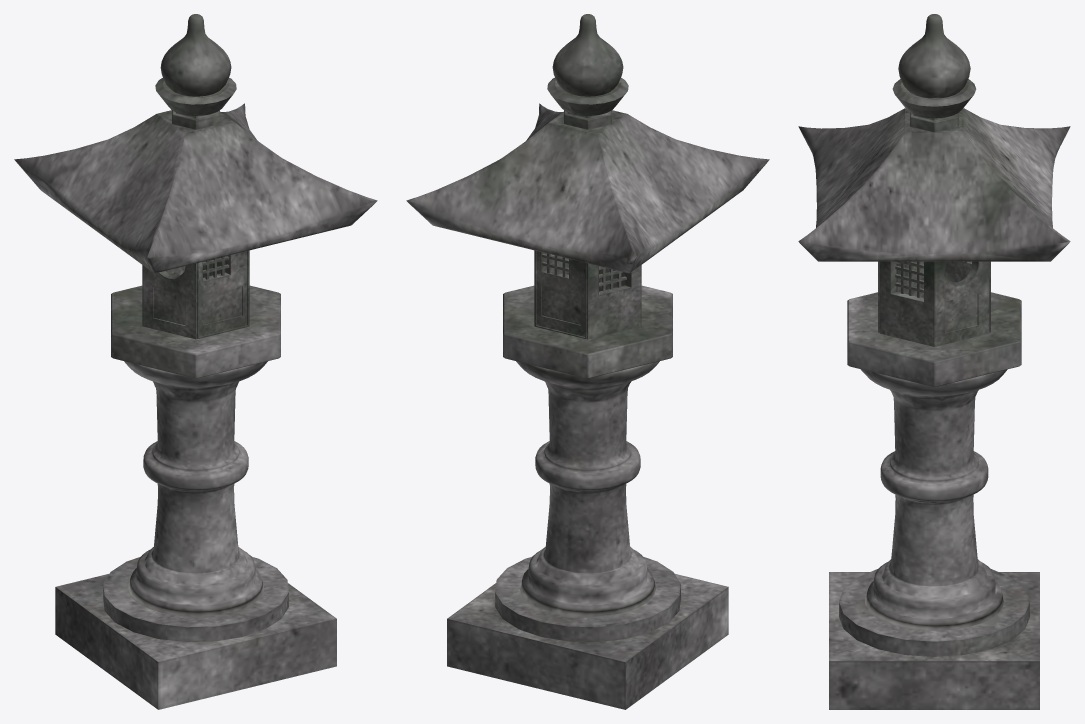
Rendered from den_mai.glb.
3 views of the same model, side by side, from view 1: azimuth 30°, elevation 25°; view 2: azimuth 150°, elevation 25°; view 3: azimuth 270°, elevation 25° (orthographic). The views are drawn at different scales.
Visible parts, largest first — view 1: stone_Lantren_4, stone_Lantren_7, stone_Lantren_9, stone_Lantren_6, stone_Lantren_5, stone_Lantren_8, stone_Lantren_1, stone_Lantren_2, stone_Lantren_3; view 2: stone_Lantren_4, stone_Lantren_7, stone_Lantren_9, stone_Lantren_6, stone_Lantren_5, stone_Lantren_8, stone_Lantren_1, stone_Lantren_2, stone_Lantren_3; view 3: stone_Lantren_4, stone_Lantren_7, stone_Lantren_9, stone_Lantren_6, stone_Lantren_5, stone_Lantren_8, stone_Lantren_1, stone_Lantren_2, stone_Lantren_3.
Part boxes in pixels (<box>): stone_Lantren_4: <box>14,103,377,273</box>; stone_Lantren_7: <box>124,361,267,616</box>; stone_Lantren_9: <box>55,547,336,709</box>; stone_Lantren_6: <box>111,285,280,378</box>; stone_Lantren_5: <box>142,250,249,339</box>; stone_Lantren_8: <box>103,556,288,641</box>; stone_Lantren_1: <box>160,14,231,96</box>; stone_Lantren_2: <box>155,77,236,115</box>; stone_Lantren_3: <box>172,110,219,129</box>; stone_Lantren_4: <box>406,103,769,273</box>; stone_Lantren_7: <box>516,361,659,616</box>; stone_Lantren_9: <box>447,547,728,709</box>; stone_Lantren_6: <box>503,285,672,378</box>; stone_Lantren_5: <box>534,250,641,339</box>; stone_Lantren_8: <box>495,556,680,641</box>; stone_Lantren_1: <box>552,14,623,96</box>; stone_Lantren_2: <box>547,77,628,115</box>; stone_Lantren_3: <box>564,110,611,129</box>; stone_Lantren_4: <box>798,108,1070,261</box>; stone_Lantren_7: <box>860,369,1007,630</box>; stone_Lantren_9: <box>829,572,1039,709</box>; stone_Lantren_6: <box>847,292,1021,386</box>; stone_Lantren_5: <box>878,261,990,346</box>; stone_Lantren_8: <box>839,569,1029,656</box>; stone_Lantren_1: <box>898,14,970,98</box>; stone_Lantren_2: <box>892,79,976,118</box>; stone_Lantren_3: <box>910,112,958,132</box>.
Size of the model in its own units: 0.0959 by 0.2522 by 0.0959.
1 material, 1 textured.
